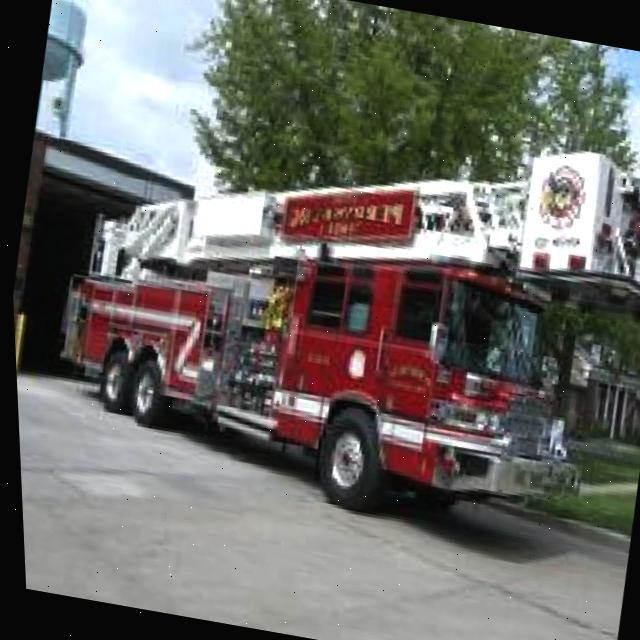emergency: (26, 198, 595, 546)
